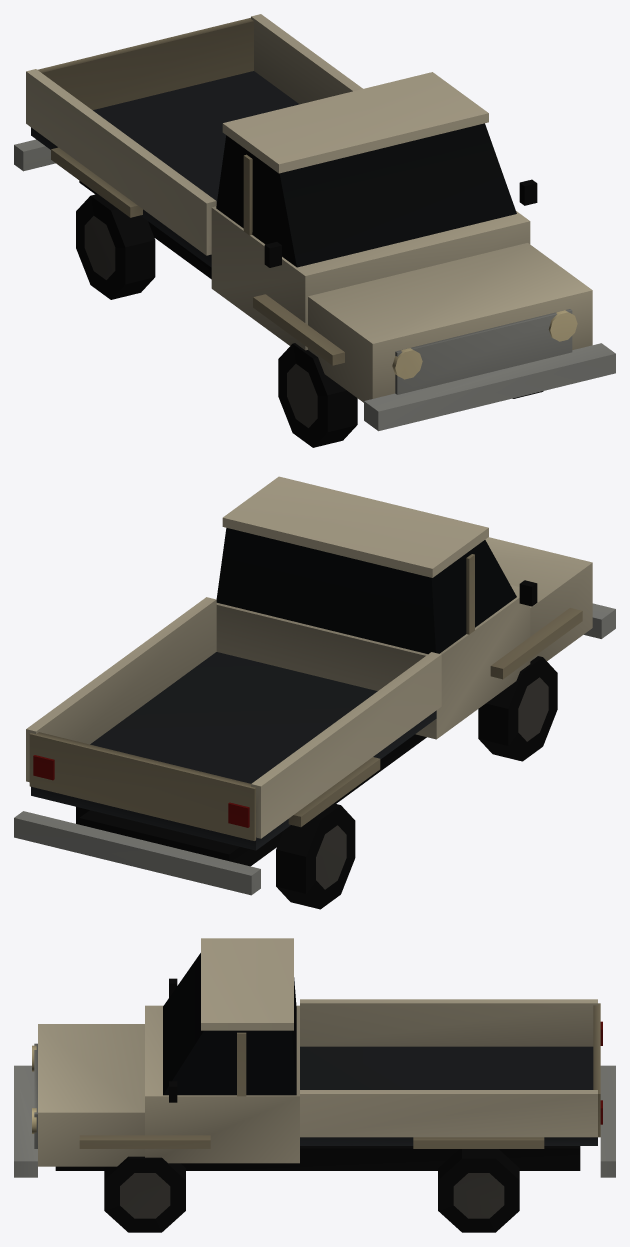
The model's file is fm_truck_lod1.glb.
3 renders of one model, top to bottom at view 1: azimuth 30°, elevation 25°; view 2: azimuth 150°, elevation 25°; view 3: azimuth 270°, elevation 25°, orthographic. The views are drawn at different scales.
Visible parts, largest first — view 1: fm_truck_lod1; view 2: fm_truck_lod1; view 3: fm_truck_lod1.
Part boxes in pixels (left/top/right/bottom): fm_truck_lod1: left=14, top=14, right=615, bottom=447; fm_truck_lod1: left=14, top=476, right=615, bottom=909; fm_truck_lod1: left=14, top=938, right=615, bottom=1232.
Size of the model in its own units: 2.14 by 1.9 by 5.05.
